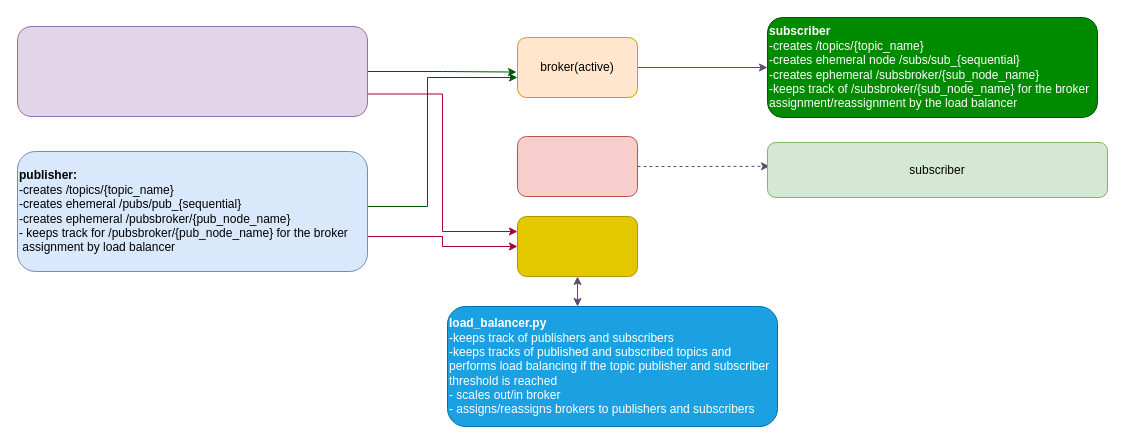
The diagram is 1125 pixels wide and 444 high, and some of its shapes have lost their labels. The box of each missing label's shape, as (x1, y1, x2, y2) in pixels:
broker(standby): (516, 136, 638, 196)
publisher: (16, 26, 368, 116)
zookeeper: (516, 216, 638, 276)
